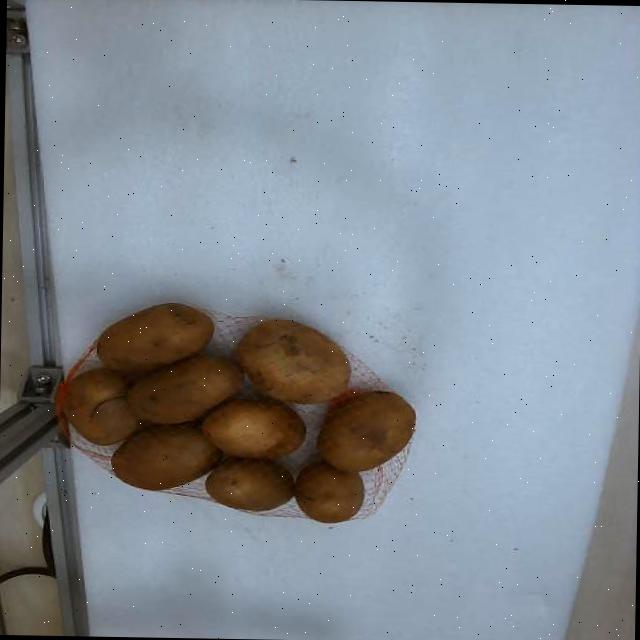potato: (237, 318, 349, 403), (96, 302, 212, 371), (125, 354, 241, 423), (316, 391, 413, 472), (111, 422, 221, 490), (201, 399, 303, 457), (61, 368, 137, 445), (205, 458, 294, 511), (294, 463, 362, 523)
